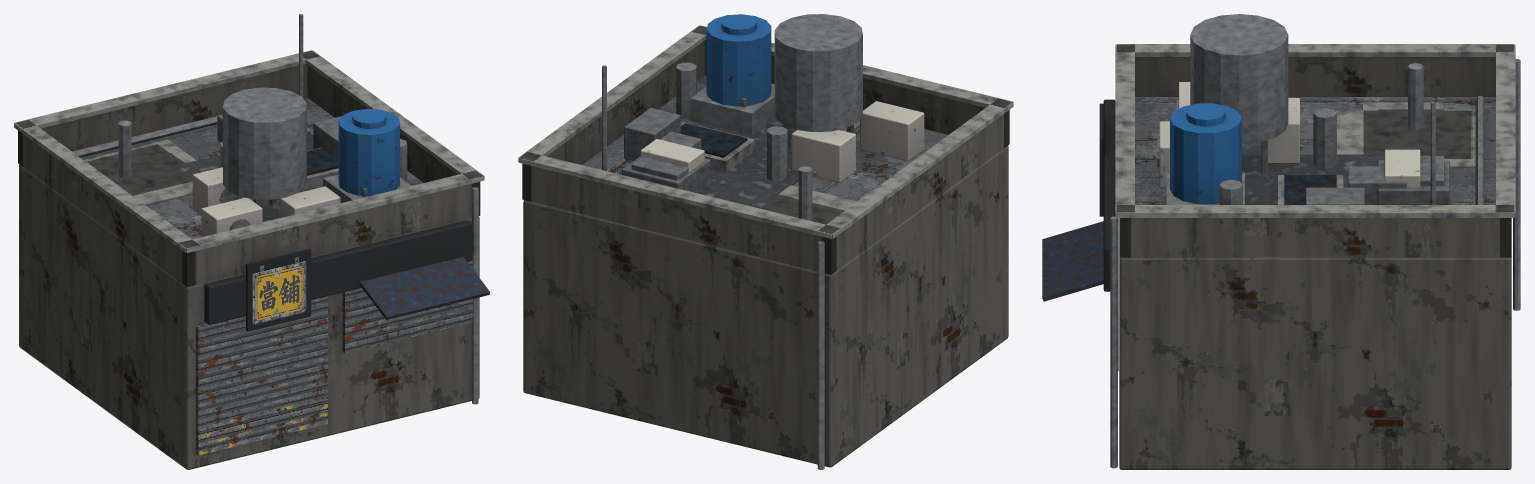
The model's file is city_row_low_a_lower.glb.
3 views of the same model, side by side, from view 1: azimuth 30°, elevation 25°; view 2: azimuth 150°, elevation 25°; view 3: azimuth 270°, elevation 25° (orthographic). The views are drawn at different scales.
Visible parts, largest first — view 1: city_row_low_a_lower; view 2: city_row_low_a_lower; view 3: city_row_low_a_lower.
Part boxes in pixels (x1,y1,x2,y2): city_row_low_a_lower: (14, 14, 489, 469); city_row_low_a_lower: (518, 14, 1013, 469); city_row_low_a_lower: (1042, 14, 1520, 469).
Bounding box in the file's own units: 6.12 × 5.8 × 7.32.
Materials: 12 (12 with a texture image).
